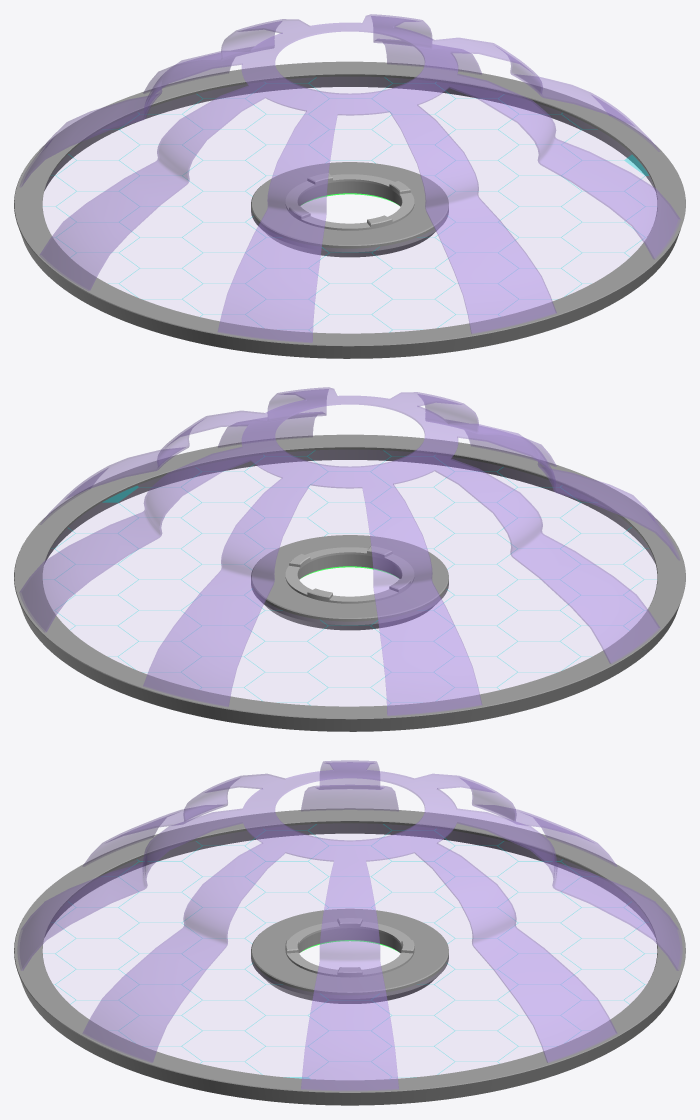
3 views of the same model, one above another, from view 1: azimuth 30°, elevation 25°; view 2: azimuth 150°, elevation 25°; view 3: azimuth 270°, elevation 25° (orthographic).
Parts seen in each view (by area): view 1: Sphere.002, Circle, HoneyComb.001, Cylinder; view 2: Sphere.002, Circle, HoneyComb.001, Cylinder; view 3: Sphere.002, Circle, HoneyComb.001, Cylinder.
Boxes of the visible parts, x1,y1,x2,y2 form: Sphere.002: (20,14,680,342); Circle: (14,61,685,358); HoneyComb.001: (43,77,648,332); Cylinder: (285,173,414,230); Sphere.002: (19,387,679,715); Circle: (14,434,685,731); HoneyComb.001: (51,450,656,705); Cylinder: (285,546,414,603); Sphere.002: (17,760,682,1090); Circle: (14,808,685,1105); HoneyComb.001: (43,824,656,1078); Cylinder: (285,918,414,977).
Size of what is drawn, in the model's own units: 39.89 by 10.31 by 39.89.
